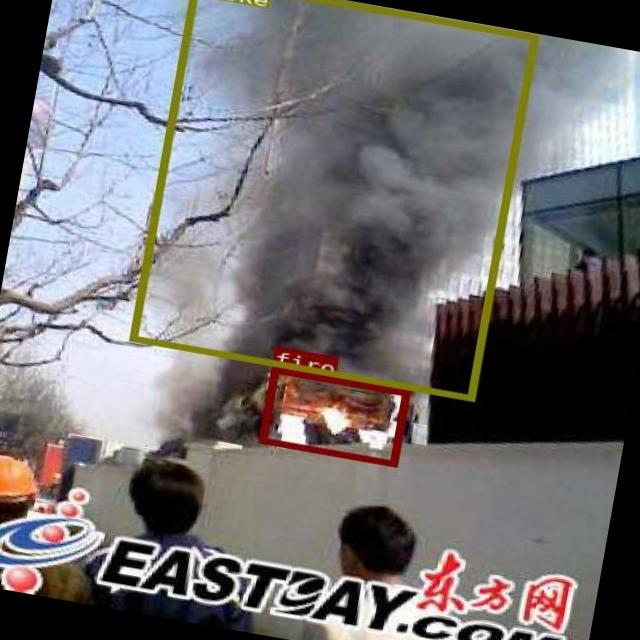fire: (257, 366, 408, 465)
smoke: (128, 0, 537, 399)
